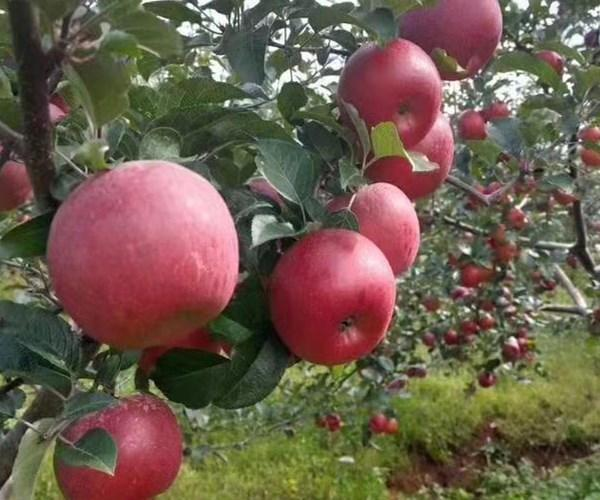apple: (42, 160, 236, 356), (264, 226, 396, 365), (41, 391, 184, 496), (340, 38, 441, 147), (394, 1, 506, 81), (333, 181, 421, 275)
